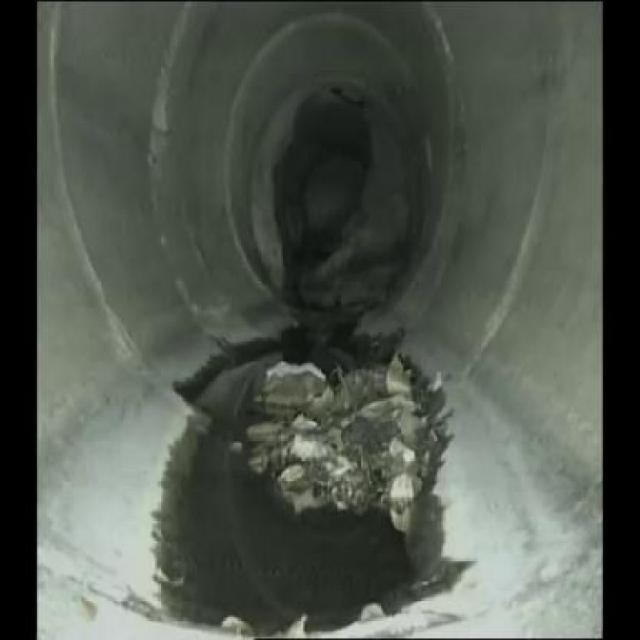Debris: (238, 337, 450, 529)
